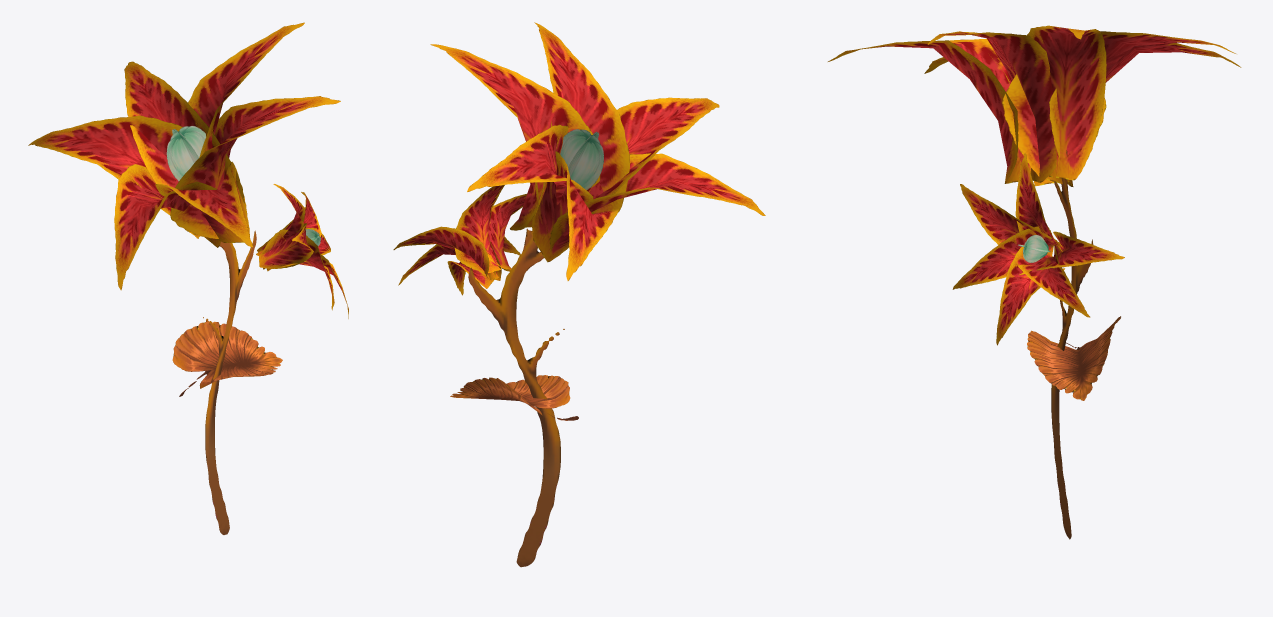
Rendered from OrangeFlower_01.fbx.
3 views of the same model, side by side, from view 1: azimuth 30°, elevation 25°; view 2: azimuth 150°, elevation 25°; view 3: azimuth 270°, elevation 25° (orthographic). The views are drawn at different scales.
Parts seen in each view (by area): view 1: Brown Stem002; view 2: Brown Stem002; view 3: Brown Stem002.
Boxes of the visible parts, <box> form: Brown Stem002: <box>28,22,348,534</box>; Brown Stem002: <box>393,22,765,567</box>; Brown Stem002: <box>828,25,1241,539</box>.
Bounding box in the file's own units: 13.88 × 23.8 × 16.81.
